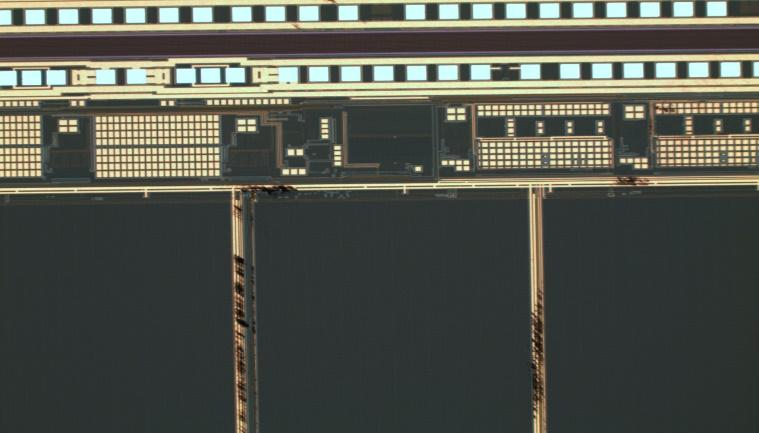SCRATCH: (209, 181, 576, 433)
